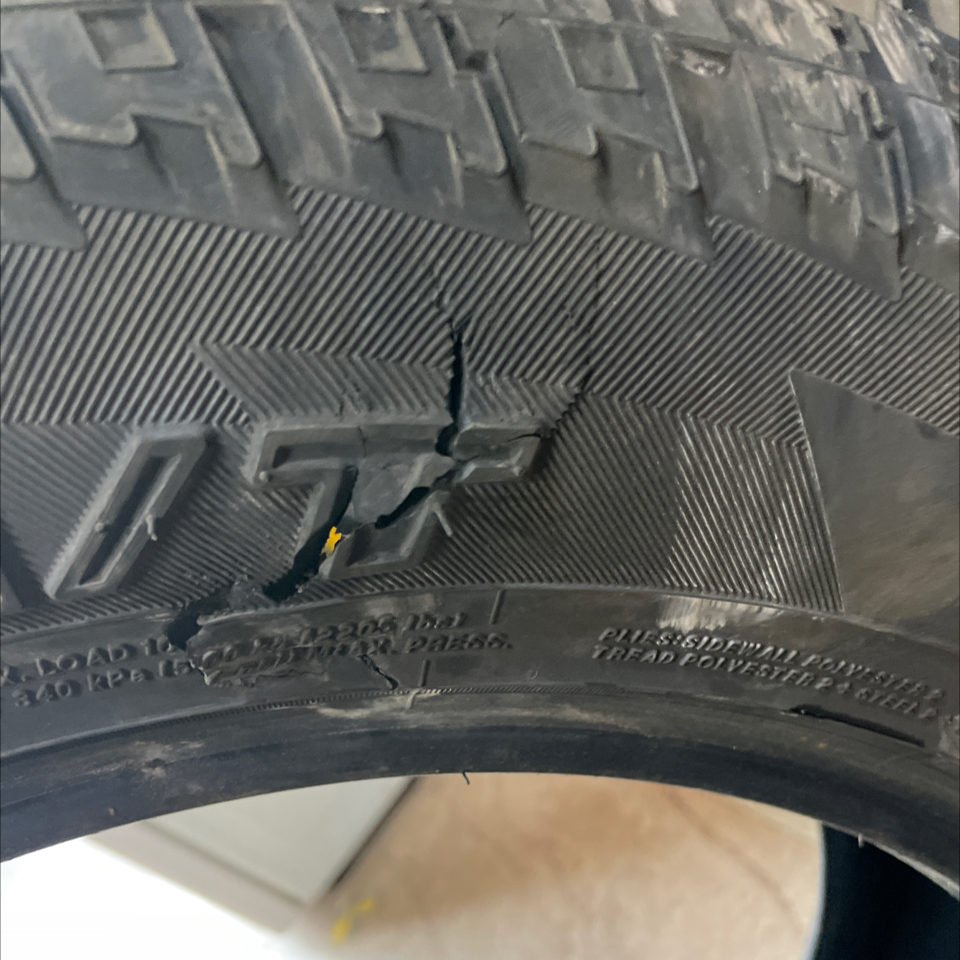bead_damage: (774, 703, 927, 746)
cut: (258, 315, 476, 607), (458, 321, 597, 475), (164, 575, 238, 652)
